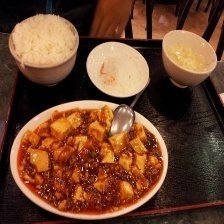rice: (8, 12, 77, 64)
